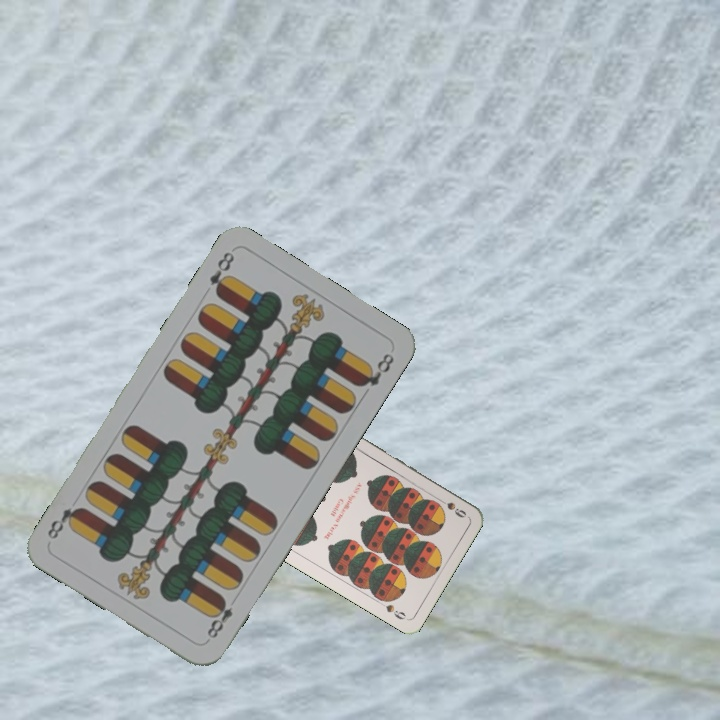E8: (205, 247, 238, 300), (202, 593, 236, 644)
S9: (433, 493, 469, 521)
